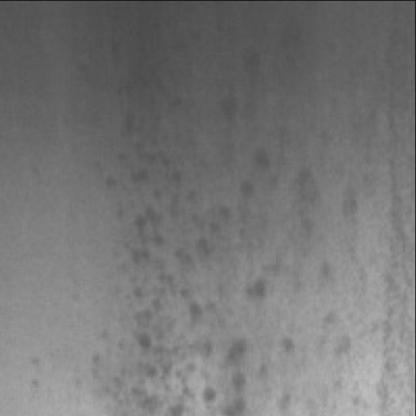pitted_surface: (98, 112, 352, 412)
